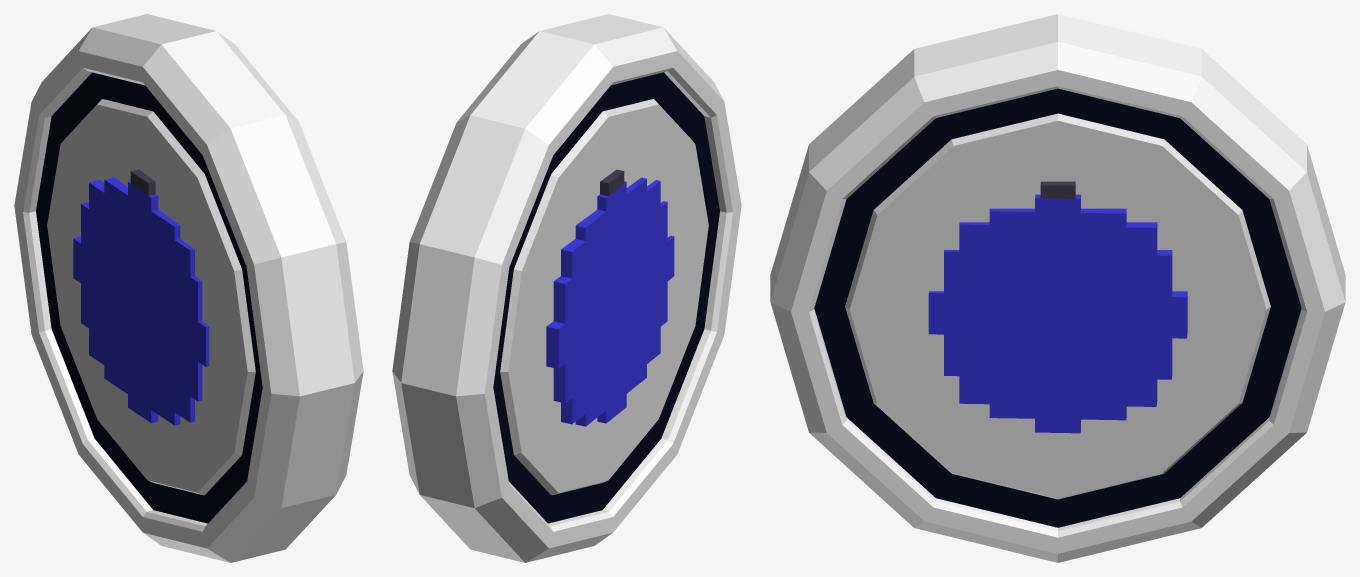
The model's file is bomb_power.glb.
The picture shows the model from 3 angles, left to right: view 1: azimuth 30°, elevation 25°; view 2: azimuth 150°, elevation 25°; view 3: azimuth 270°, elevation 25°; orthographic projection. The views are drawn at different scales.
Parts seen in each view (by area): view 1: bomb_power; view 2: bomb_power; view 3: bomb_power.
Boxes of the visible parts, <box> form: bomb_power: <box>14,14,363,562</box>; bomb_power: <box>392,14,741,562</box>; bomb_power: <box>770,14,1345,562</box>.
Size of the model in its own units: 0.1809 by 0.8077 by 0.8077.
